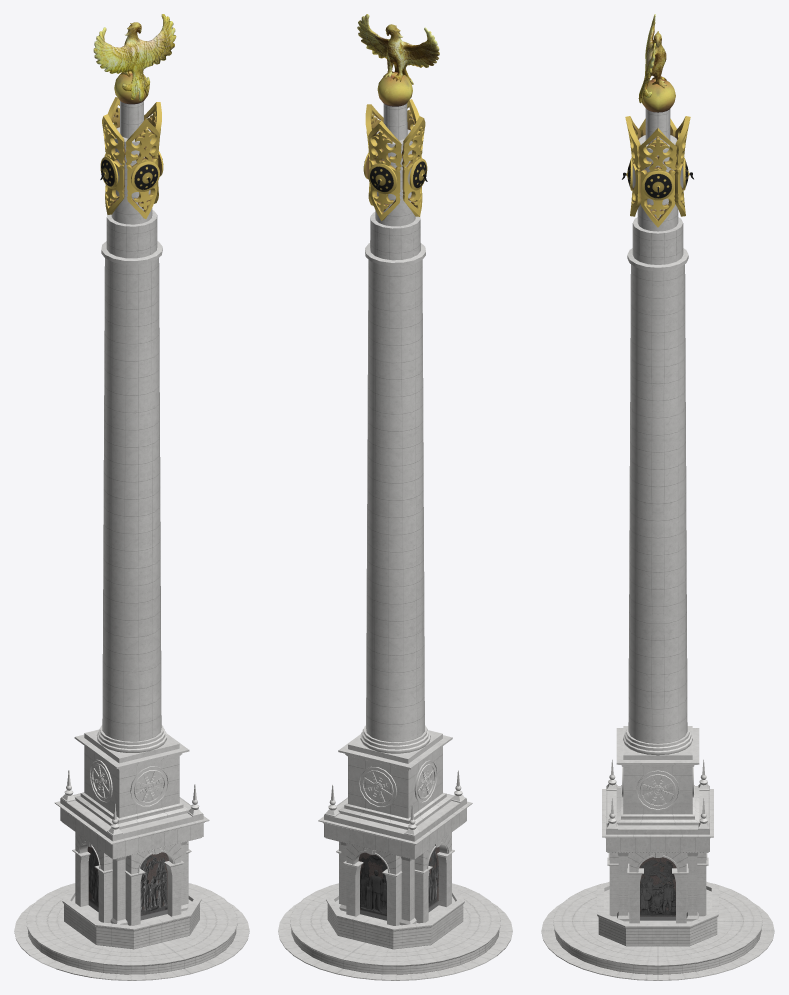
The picture shows the model from 3 angles, left to right: view 1: azimuth 30°, elevation 25°; view 2: azimuth 150°, elevation 25°; view 3: azimuth 270°, elevation 25°; orthographic projection.
Parts seen in each view (by area): view 1: Kazak_eli; view 2: Kazak_eli; view 3: Kazak_eli.
Part boxes in pixels (x1,y1,x2,y2): Kazak_eli: [14, 14, 249, 980]; Kazak_eli: [278, 14, 512, 980]; Kazak_eli: [541, 14, 774, 980].
Size of the model in its own units: 2700 by 11540 by 2700.
Materials: 1 (1 with a texture image).
